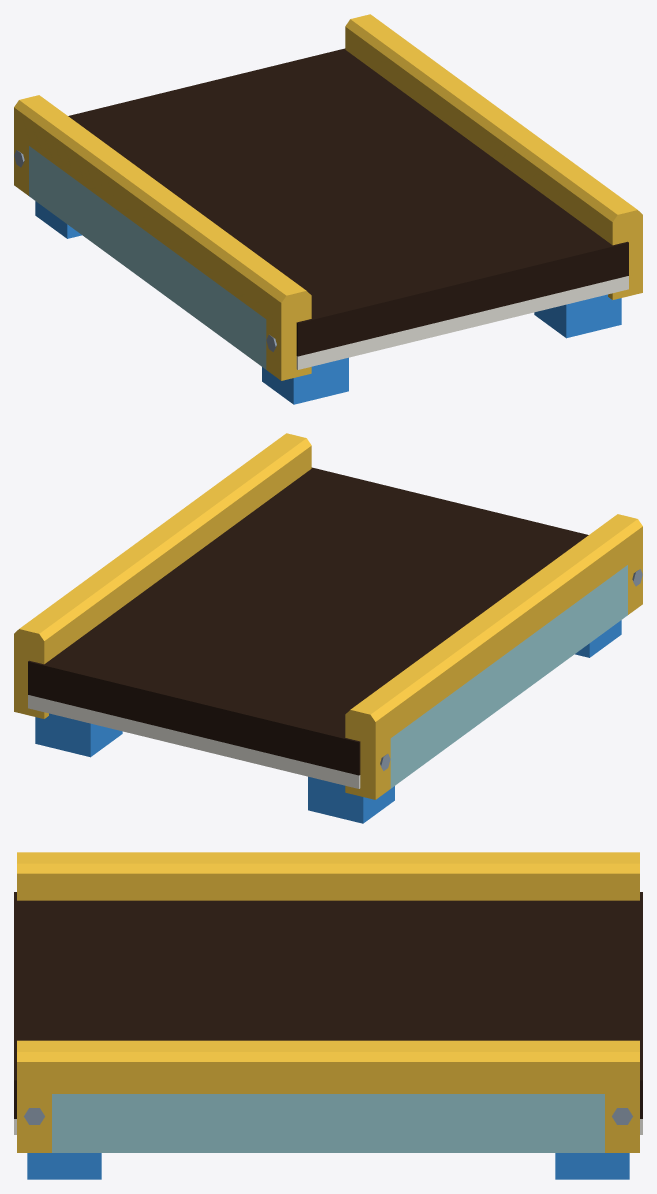
Rendered from Straight.glb.
The picture shows the model from 3 angles, top to bottom: view 1: azimuth 30°, elevation 25°; view 2: azimuth 150°, elevation 25°; view 3: azimuth 270°, elevation 25°; orthographic projection. The views are drawn at different scales.
Parts seen in each view (by area): view 1: Straight; view 2: Straight; view 3: Straight.
Boxes of the visible parts, left/top/right/bottom form: Straight: left=14, top=14, right=642, bottom=404; Straight: left=14, top=433, right=642, bottom=823; Straight: left=14, top=852, right=642, bottom=1179.
Bounding box in the file's own units: 0.8753 × 0.2626 × 1.11.
Materials: 1 (1 with a texture image).
